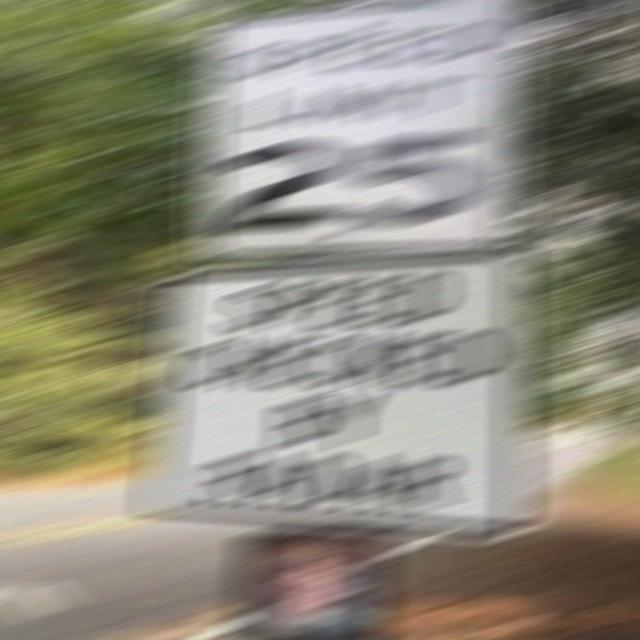speedLimit25: (198, 12, 522, 252)
